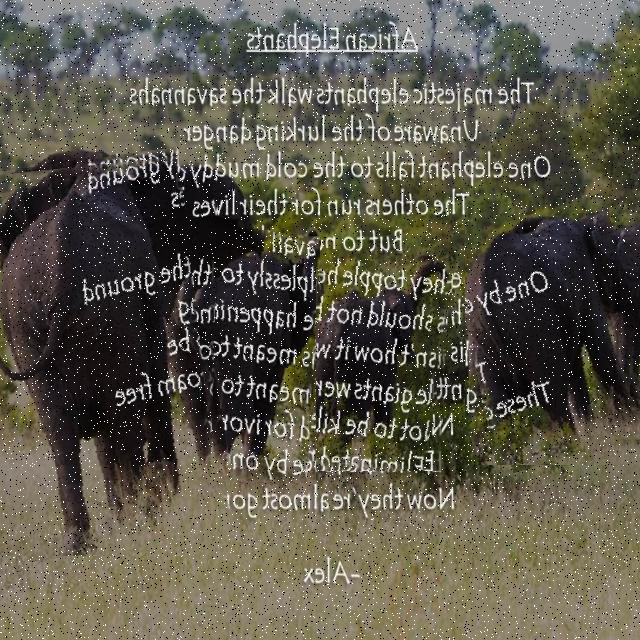elephant: (0, 152, 220, 556), (465, 200, 640, 465), (166, 228, 316, 484), (305, 251, 449, 471)
